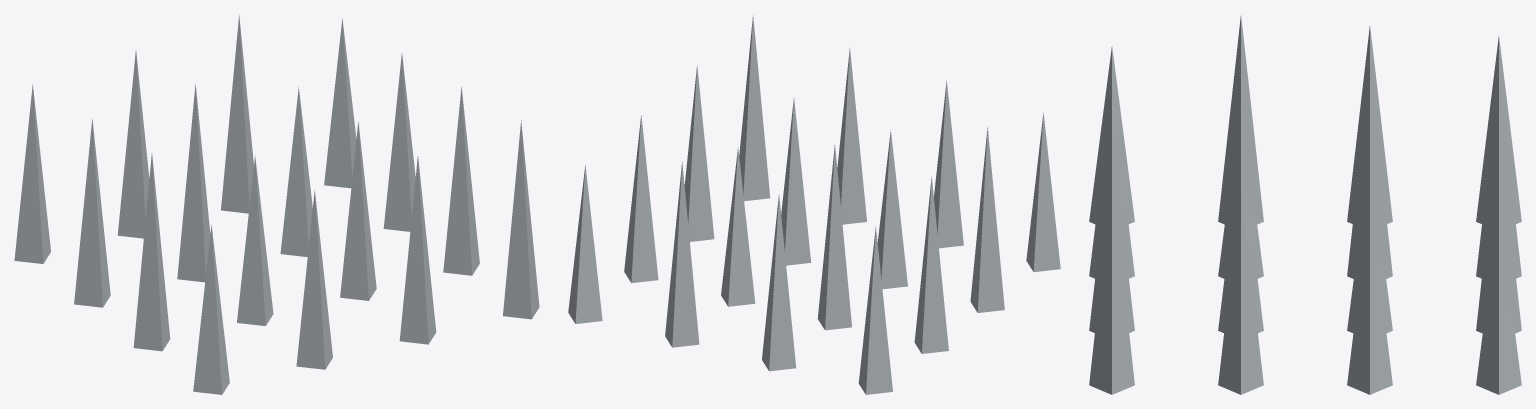
Rendered from PR_Spikes.fbx.
The picture shows the model from 3 angles, left to right: view 1: azimuth 30°, elevation 25°; view 2: azimuth 150°, elevation 25°; view 3: azimuth 270°, elevation 25°; orthographic projection. The views are drawn at different scales.
Visible parts, largest first — view 1: PR_Spikes; view 2: PR_Spikes; view 3: PR_Spikes.
Part boxes in pixels (x1,y1,x2,y2): PR_Spikes: (14,15,539,394); PR_Spikes: (568,14,1060,394); PR_Spikes: (1089,15,1521,394).
Size of the model in its own units: 1.51 by 1.51 by 0.8.
